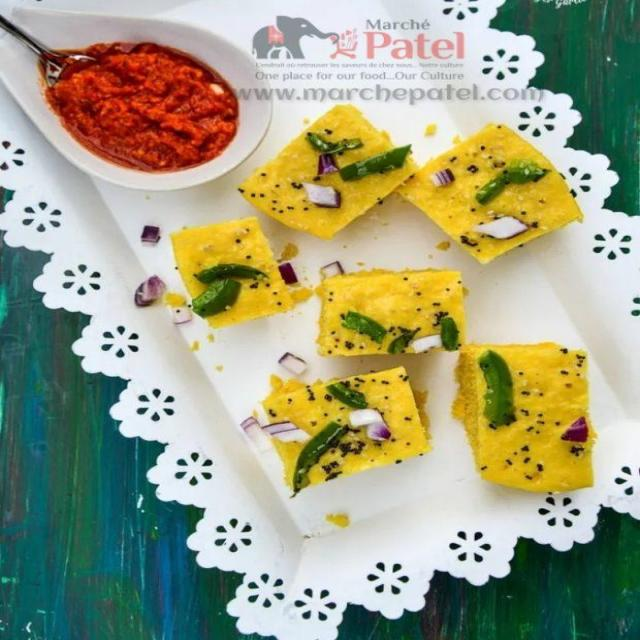dhokla: (279, 275, 607, 482), (258, 105, 591, 260), (170, 210, 296, 324)
